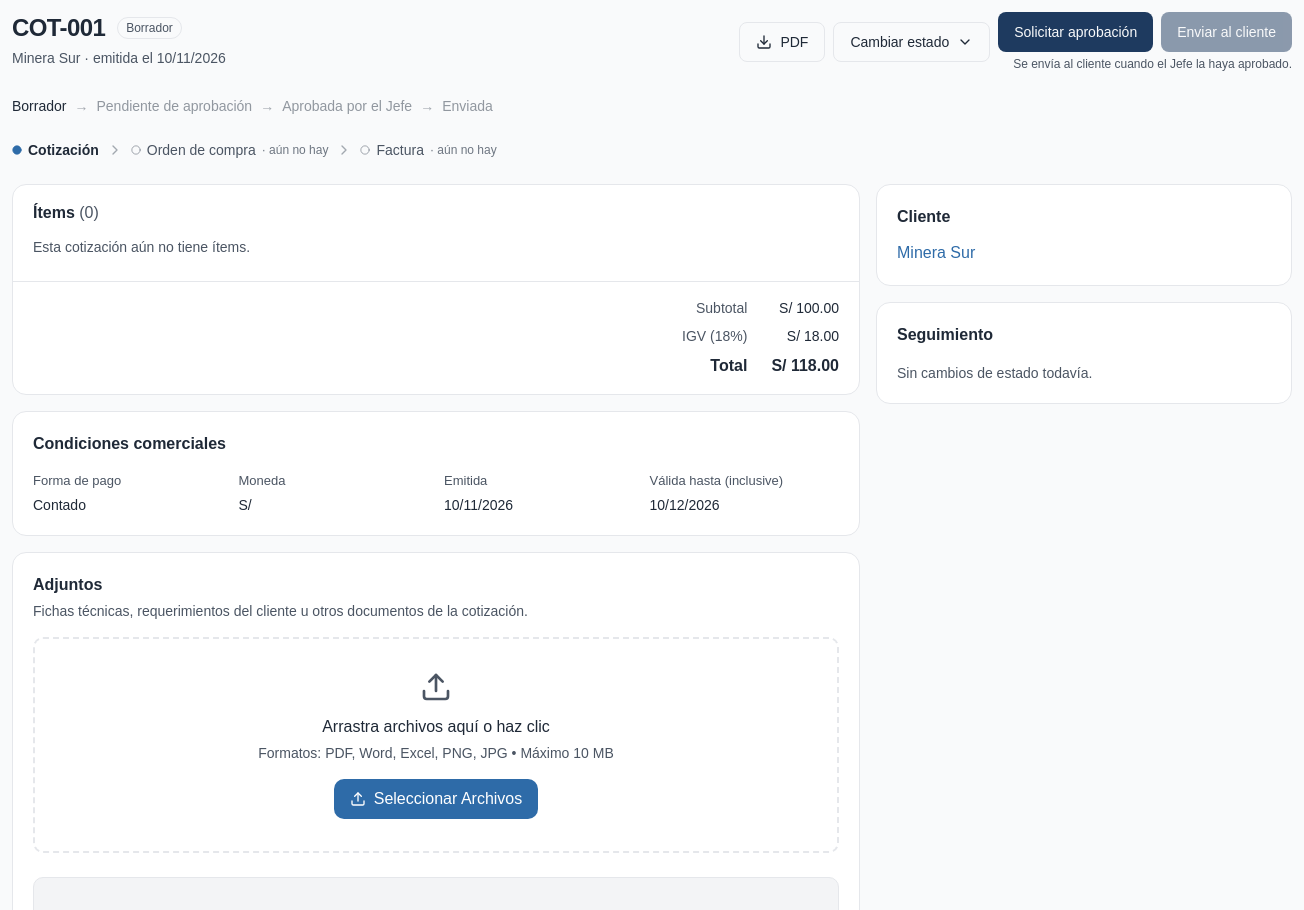
Test: aprobación de la cotización › desde borrador el menú del Jefe solo ofrece anular, y puede solicitar la aprobación de la suya
Click the button "Cambiar estado": (912, 42) [833,22,990,62]
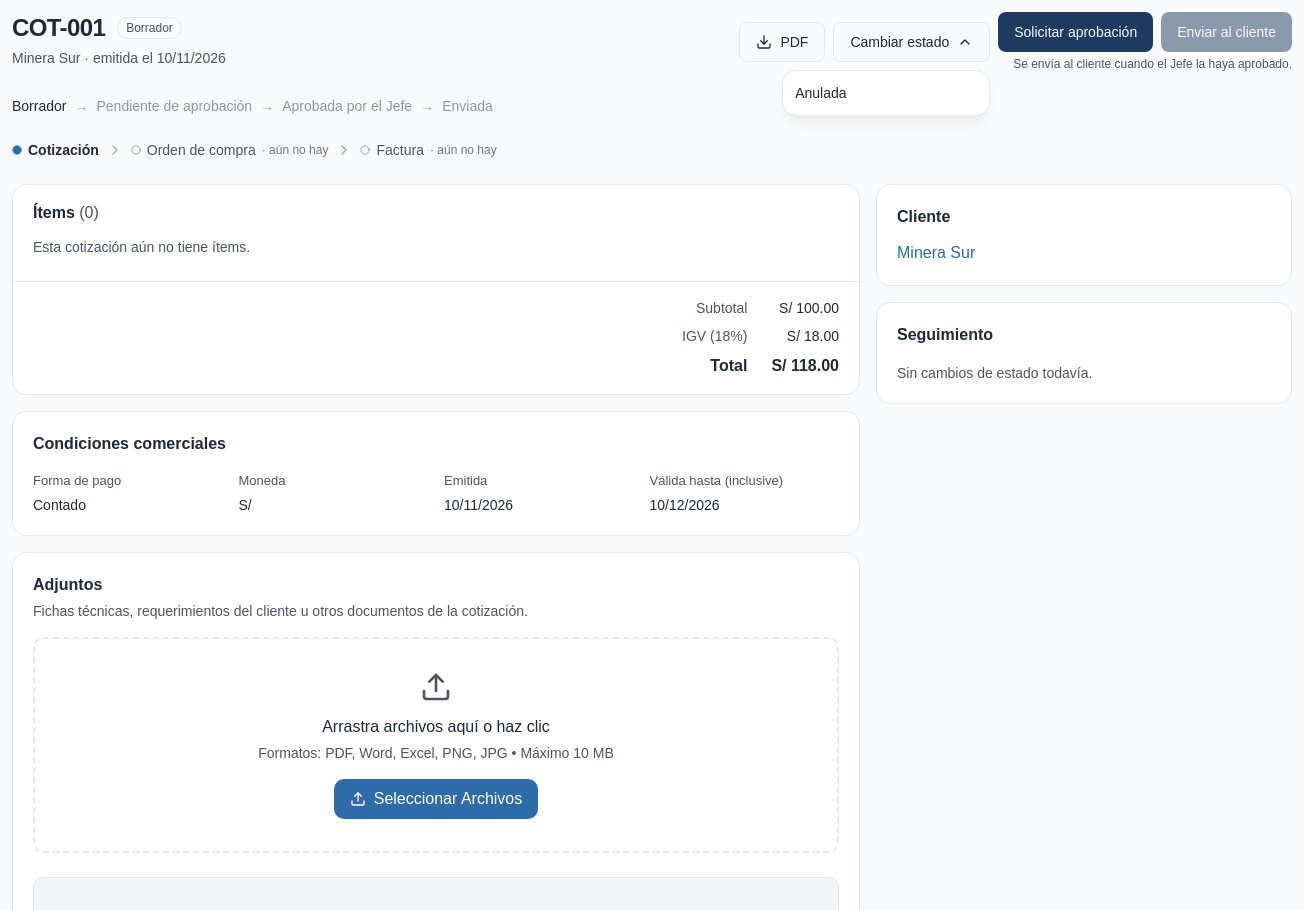
Check: the button "Solicitar aprobación" is shown, box [998,12,1153,52]
Check: the menu item "Anulada" is shown, box [783,75,989,111]
